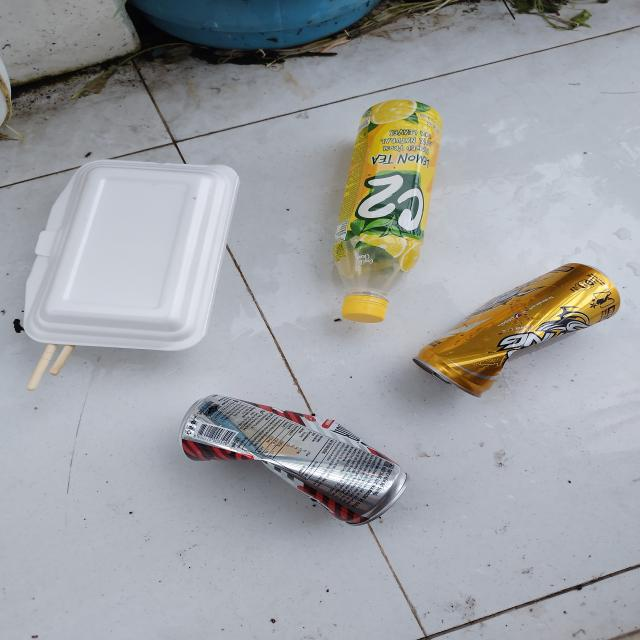bottle: (332, 100, 443, 324)
can: (178, 393, 410, 525), (411, 262, 622, 398)
foam box: (23, 160, 242, 352)
